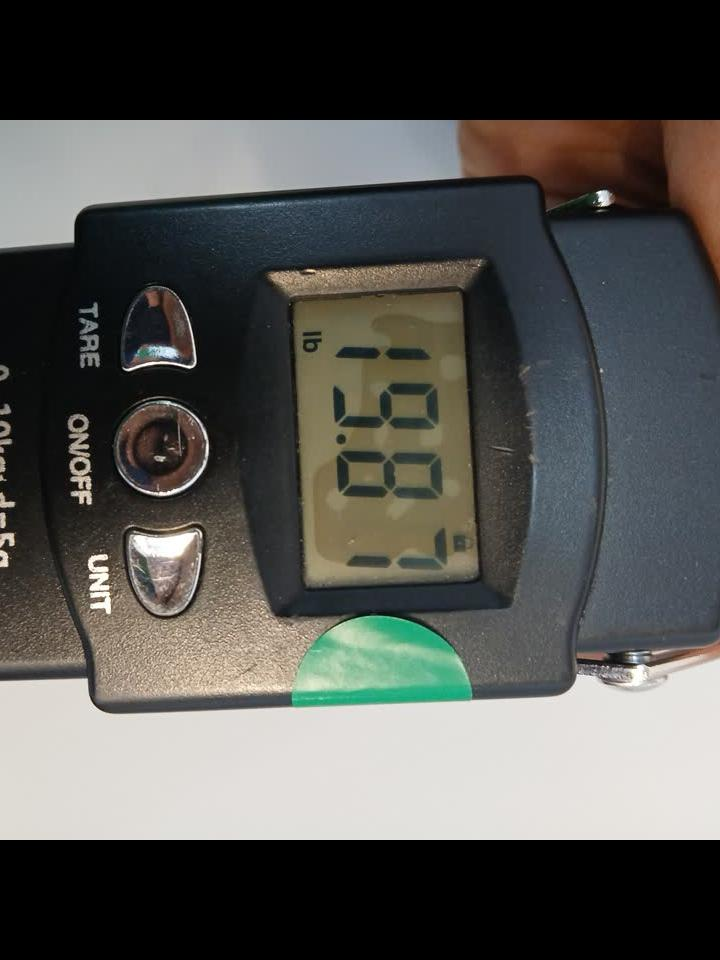LED-display: (296, 288, 468, 596)
